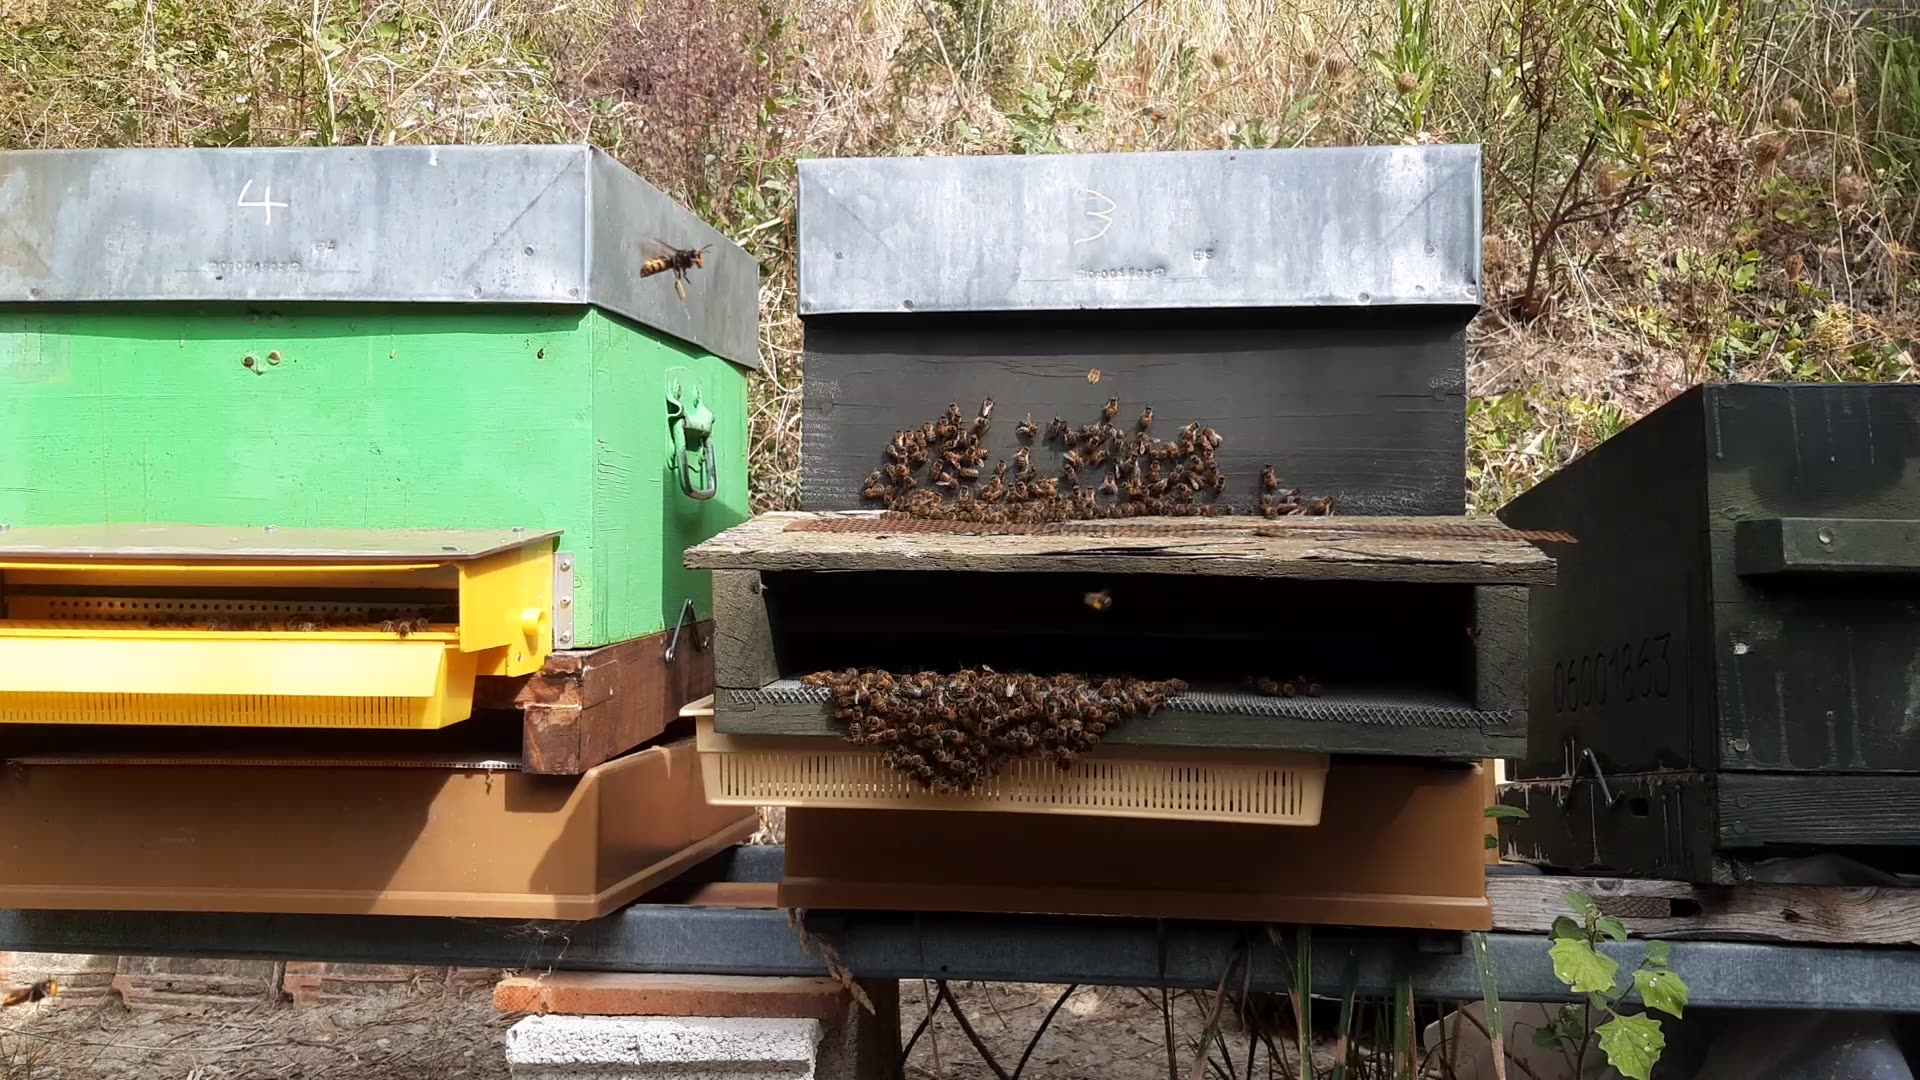bee: (1051, 476, 1124, 535), (793, 669, 882, 713), (872, 738, 932, 798), (1149, 467, 1211, 522), (1233, 464, 1290, 522), (931, 419, 989, 465), (942, 473, 994, 522), (1493, 282, 1540, 335), (1072, 363, 1127, 405), (5, 961, 50, 1009), (1159, 434, 1211, 473), (1056, 414, 1118, 444)
